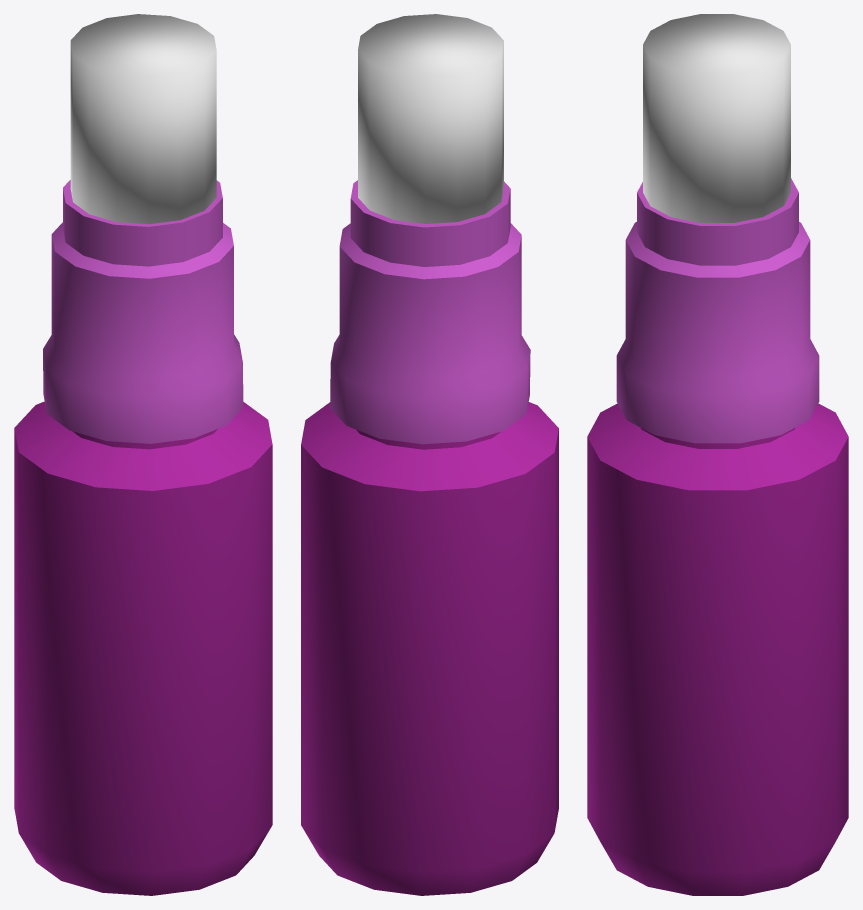
File: SprayBottle.fbx
3 views of the same model, side by side, from view 1: azimuth 30°, elevation 25°; view 2: azimuth 150°, elevation 25°; view 3: azimuth 270°, elevation 25° (orthographic).
Parts seen in each view (by area): view 1: SprayBottle, Lid; view 2: SprayBottle, Lid; view 3: SprayBottle, Lid.
Boxes of the visible parts, x1,y1,x2,y2 form: SprayBottle: (14, 180, 272, 895); Lid: (70, 14, 216, 224); SprayBottle: (301, 180, 558, 895); Lid: (358, 14, 503, 223); SprayBottle: (587, 178, 848, 895); Lid: (643, 14, 790, 222).
Size of the model in its own units: 3 by 10.45 by 3.07.
